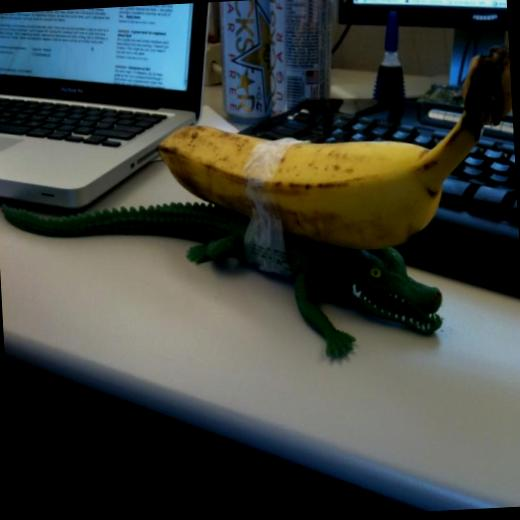Banana: (152, 44, 519, 260)
